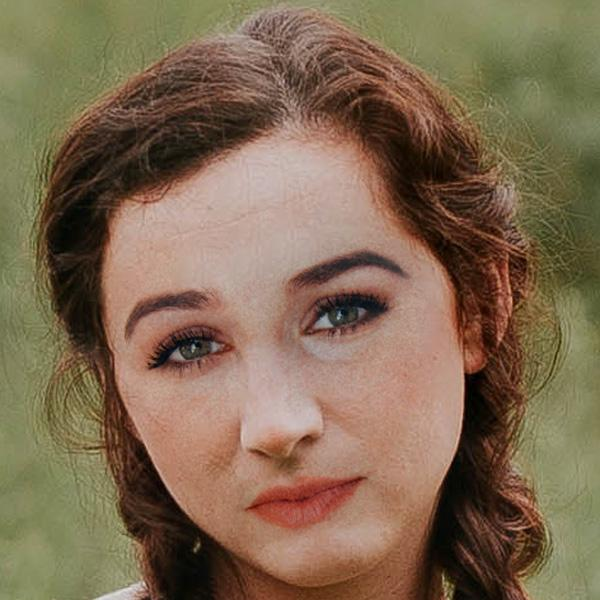Eyes: (286, 281, 395, 350), (145, 315, 241, 381)
